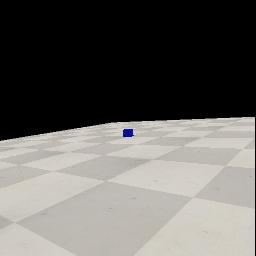box: (123, 129, 134, 137)
